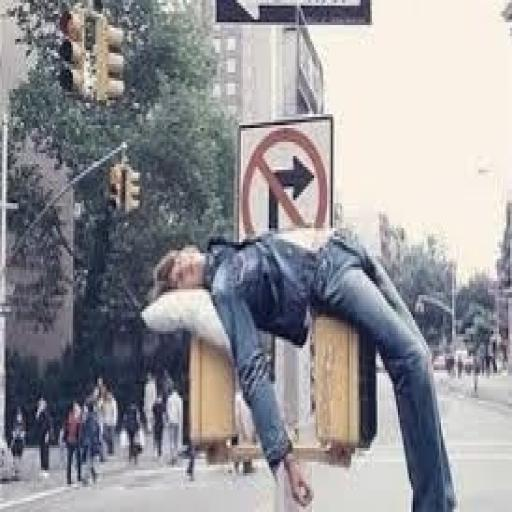sleeping: (140, 223, 460, 509)
